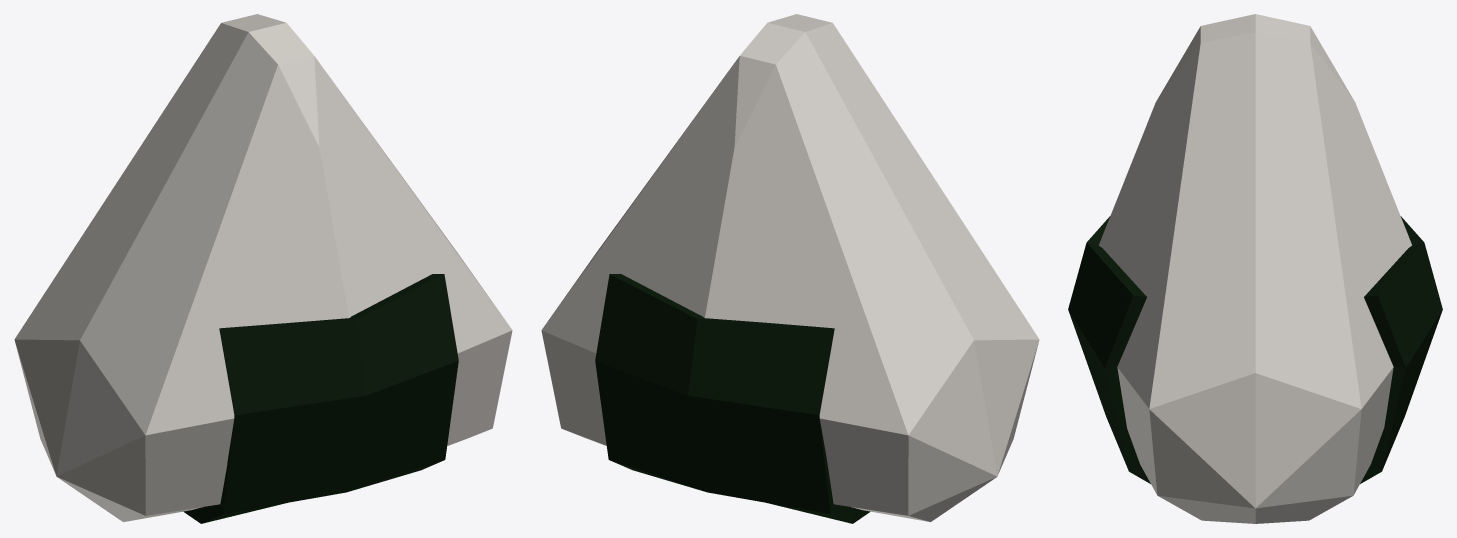
Rendered from oniguiri.fbx.
3 renders of one model, left to right at view 1: azimuth 30°, elevation 25°; view 2: azimuth 150°, elevation 25°; view 3: azimuth 270°, elevation 25°, orthographic. The views are drawn at different scales.
Parts seen in each view (by area): view 1: oniguiri; view 2: oniguiri; view 3: oniguiri.
Part boxes in pixels (x1,y1,x2,y2): oniguiri: (14,14,512,523); oniguiri: (541,14,1039,523); oniguiri: (1068,14,1442,523).
Size of the model in its own units: 15.7 by 15.43 by 12.36.
Materials: 1 (1 with a texture image).
